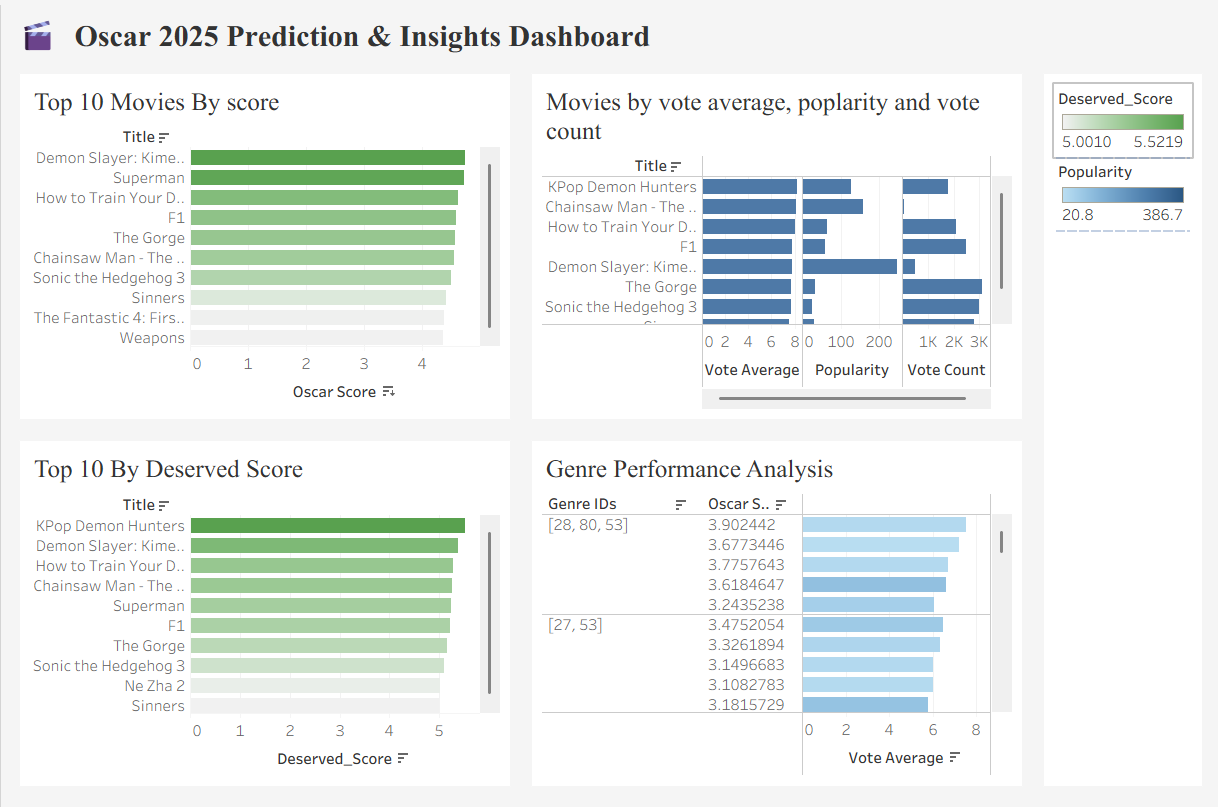

Layout of this report page (visuals, bound fields, positions):
{"tool":"tableau","page":{"name":"Oscar 2025 Prediction & Insights Dashboard","canvas":[1000,1000],"units":"permille","ordinal":0},"visuals":[{"type":"title","box":[6.6,10,986.9,62.5]},{"type":"worksheet","title":"Top 10 Movies By score","mark":"Automatic","rows":["Title"],"cols":["Calculation_3448631417612591104"],"box":[6.6,72.5,419.7,458.7]},{"type":"worksheet","title":"Movies by vote average, poplarity and vote count","mark":"Automatic","rows":["Title"],"cols":["Vote_Average","Popularity","Vote_Count"],"box":[426.2,72.5,419.7,458.7]},{"type":"legend","title":"Top 10 By Deserved Score","param":"[federated.0wzik500cnfmu012n5vde1ypq9mb].[sum:Calculation_1834090949474824193:qk","box":[863.1,98.8,113.1,91.2]},{"type":"legend","title":"Genre Performance Analysis","param":"[federated.0wzik500cnfmu012n5vde1ypq9mb].[sum:Popularity:qk]","box":[863.1,190,113.1,91.2]},{"type":"worksheet","title":"Top 10 By Deserved Score","mark":"Automatic","rows":["Title"],"cols":["Calculation_1834090949474824193"],"box":[6.6,531.2,419.7,458.8]},{"type":"worksheet","title":"Genre Performance Analysis","mark":"Automatic","rows":["Genre_IDs","Calculation_3448631417612591104"],"cols":["Vote_Average"],"box":[426.2,531.2,419.7,458.8]}]}

Visuals, with their boxes on the dashboard's canvas, which has no fixed pixel size, in thousandths of its width and height (x1, y1, x2, y2). These are canvas units, not pixel positions in the 1218x807 screenshot, which may show the page scaled, cropped or inside an application window:
title: rect(7, 10, 994, 72)
"Top 10 Movies By score" worksheet: rect(7, 72, 426, 531)
"Movies by vote average, poplarity and vote count" worksheet: rect(426, 72, 846, 531)
"Top 10 By Deserved Score" legend: rect(863, 99, 976, 190)
"Genre Performance Analysis" legend: rect(863, 190, 976, 281)
"Top 10 By Deserved Score" worksheet: rect(7, 531, 426, 990)
"Genre Performance Analysis" worksheet: rect(426, 531, 846, 990)
